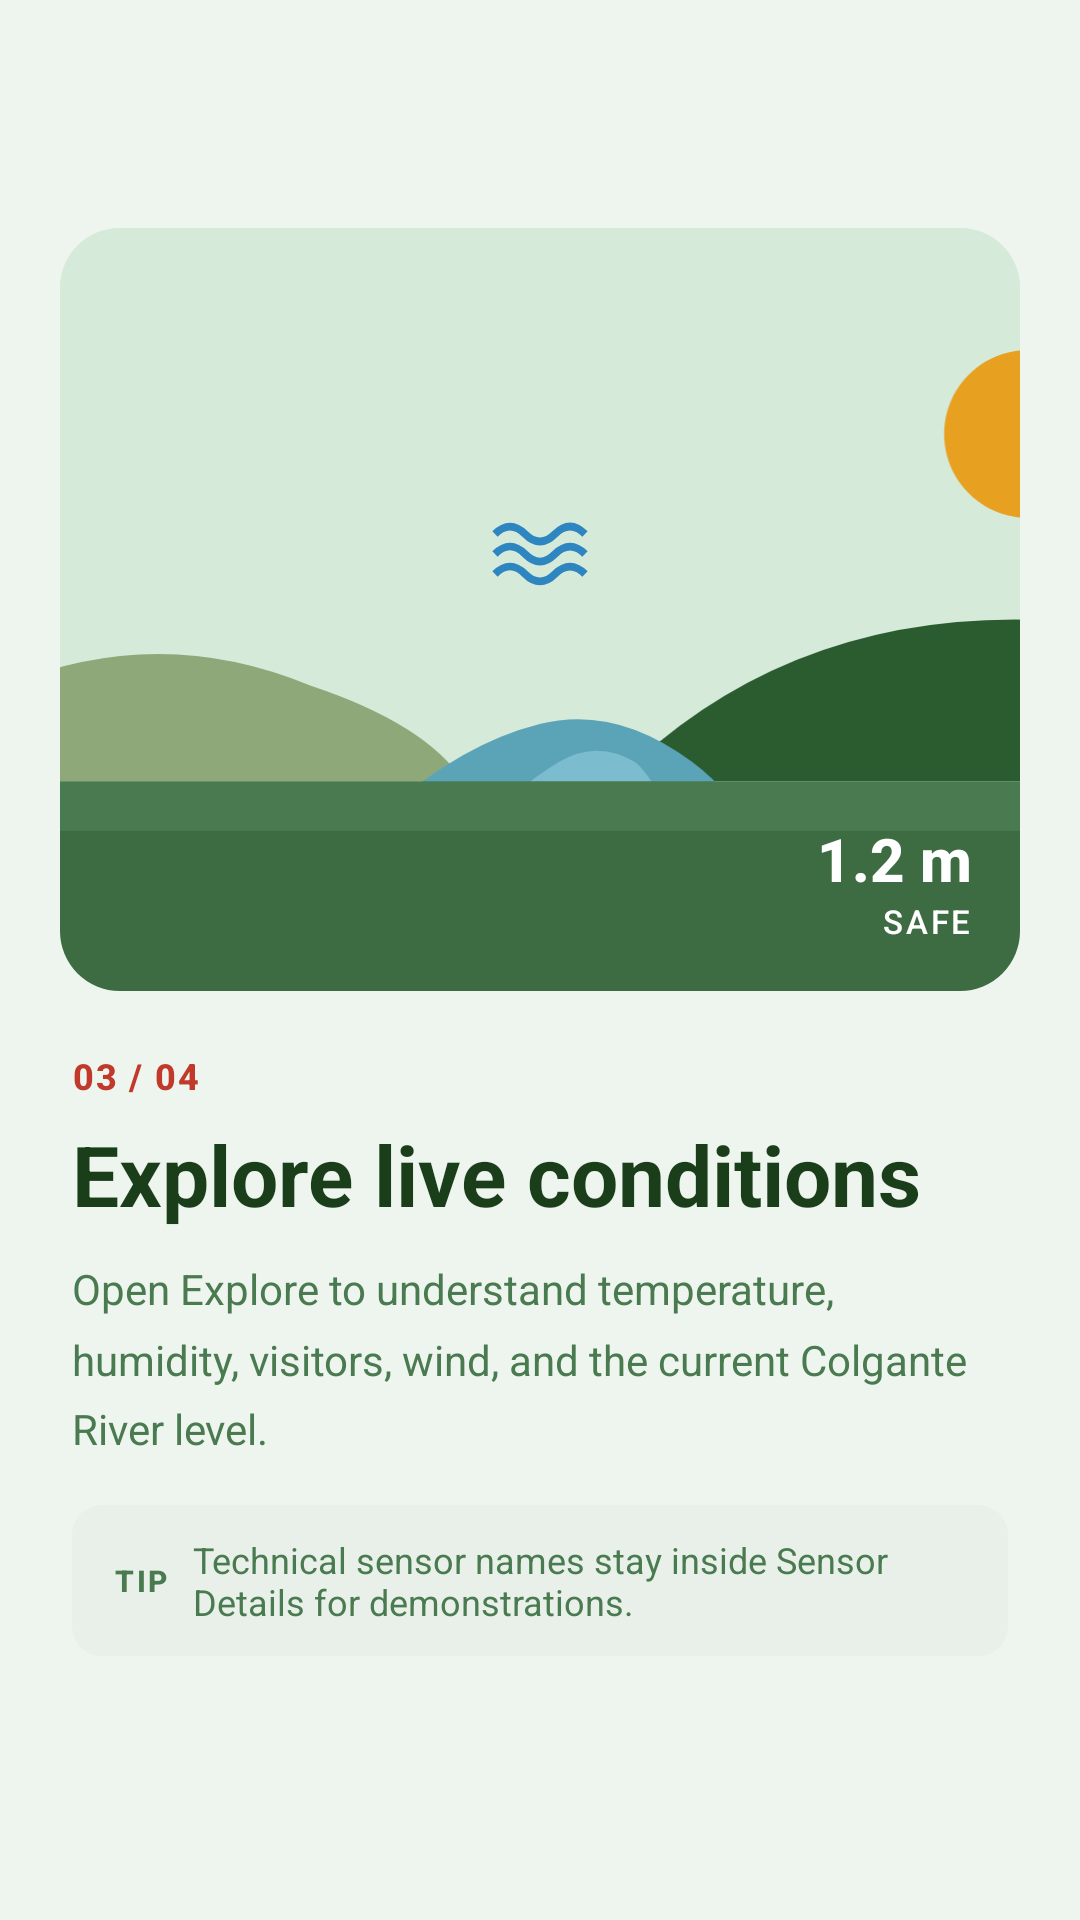

Icons on this 1080x1920 Android screen, each with the point to tap as point (x, y):
onboard waves: point (540, 554)
